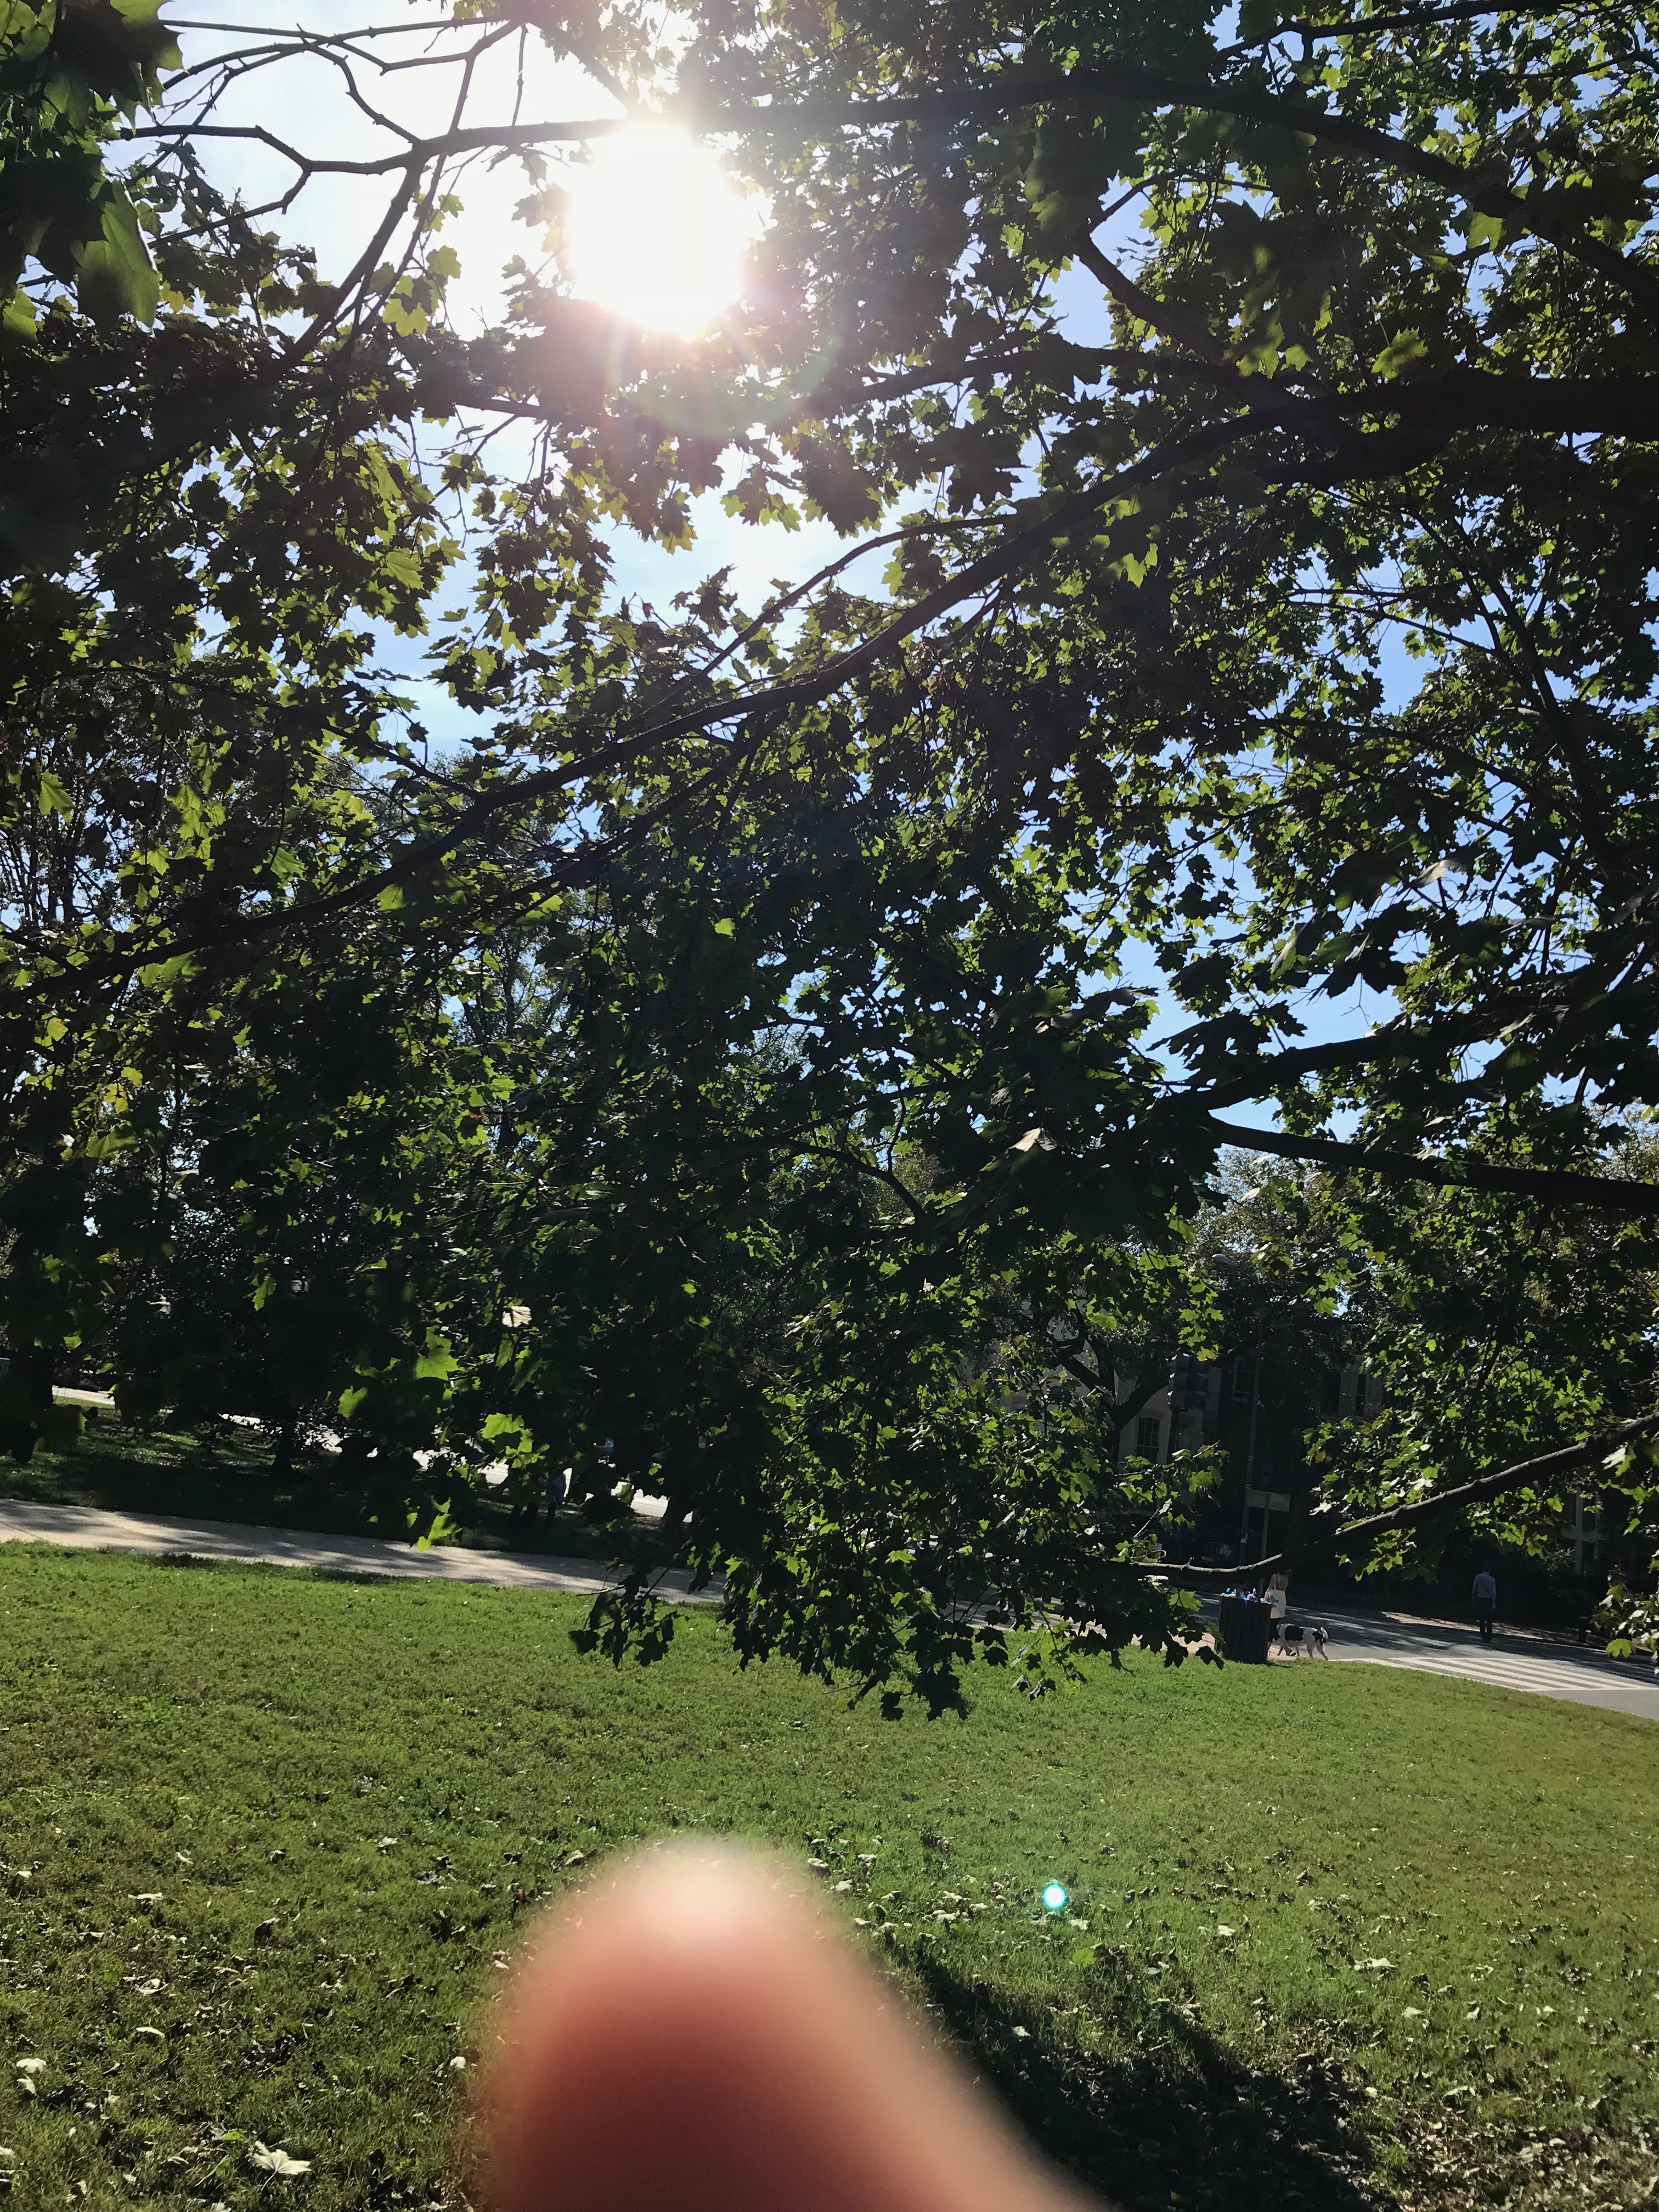flare: (1040, 1881, 1066, 1912)
